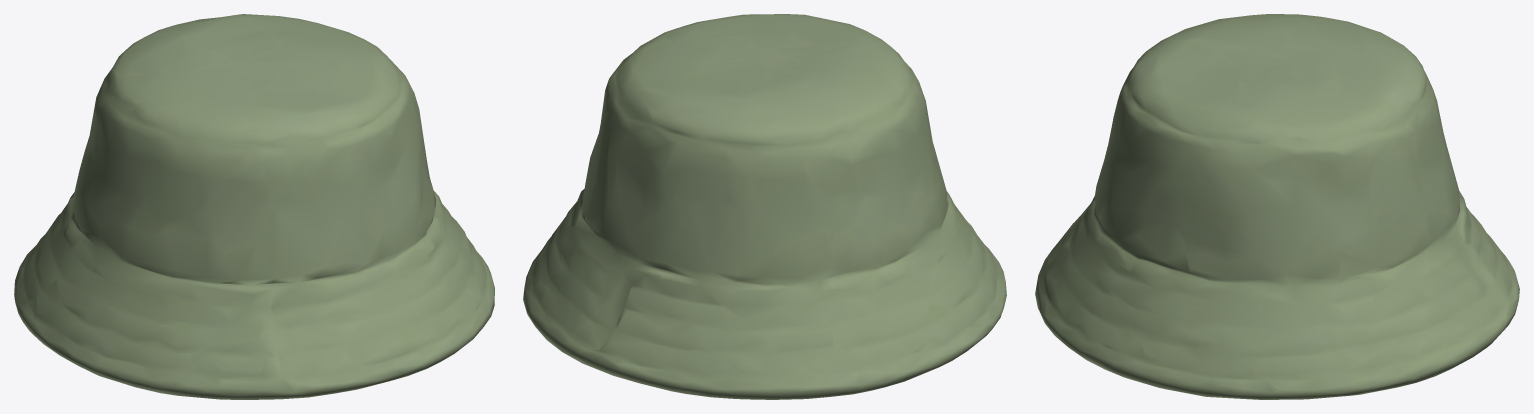
File: hat-bucket.glb
3 views of the same model, side by side, from view 1: azimuth 30°, elevation 25°; view 2: azimuth 150°, elevation 25°; view 3: azimuth 270°, elevation 25° (orthographic).
Visible parts, largest first — view 1: tripo_node_3e36800c-6ced-43ed-aac0-b2ddc0e39d18; view 2: tripo_node_3e36800c-6ced-43ed-aac0-b2ddc0e39d18; view 3: tripo_node_3e36800c-6ced-43ed-aac0-b2ddc0e39d18.
Boxes of the visible parts, bbox=[...] form: tripo_node_3e36800c-6ced-43ed-aac0-b2ddc0e39d18: bbox=[14, 14, 494, 399]; tripo_node_3e36800c-6ced-43ed-aac0-b2ddc0e39d18: bbox=[523, 14, 1006, 399]; tripo_node_3e36800c-6ced-43ed-aac0-b2ddc0e39d18: bbox=[1035, 14, 1519, 399].
Size of the model in its own units: 0.9951 by 0.5603 by 1.
1 material, 1 textured.
